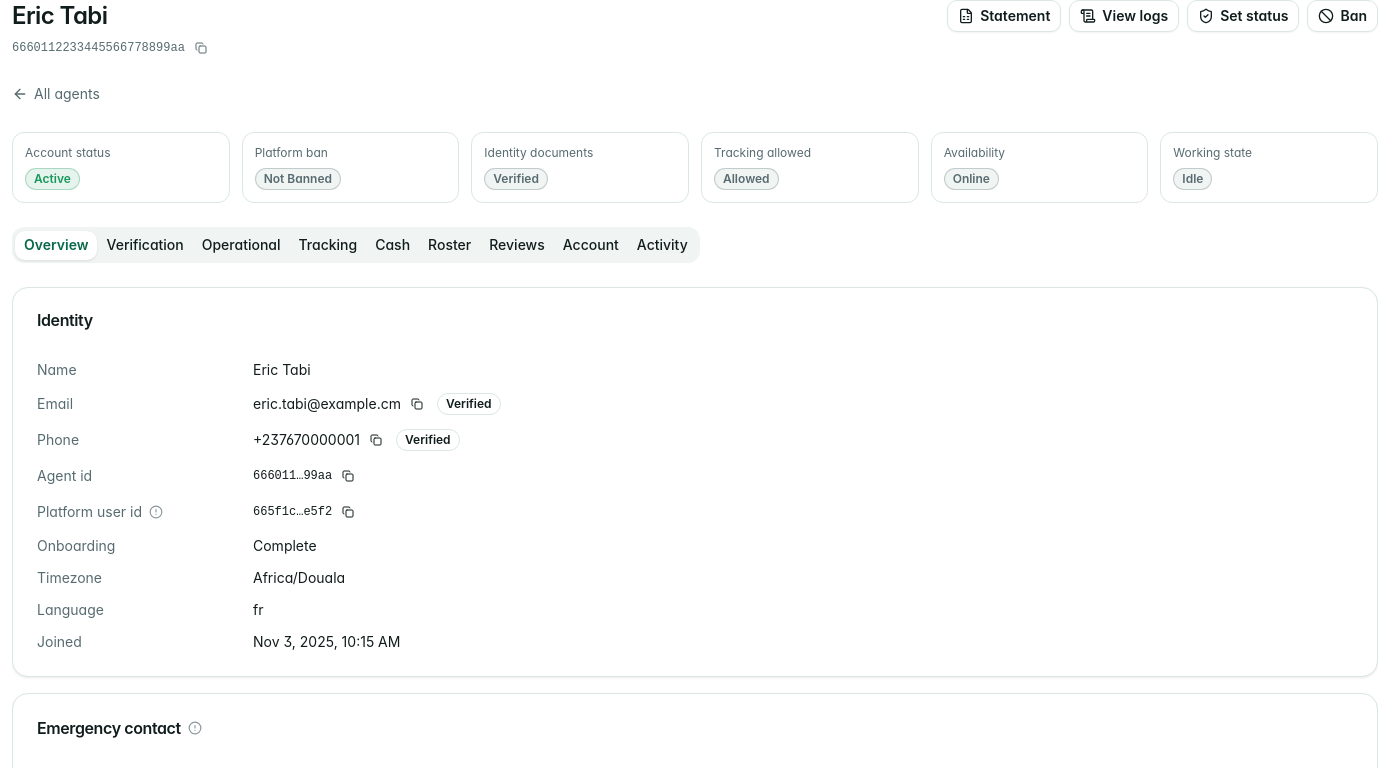
the last known position › announces staleness above the coordinates, without revealing them
The width and height of the screenshot is (1390, 768).
Click the tab "Tracking".
click(328, 245)  # box [290, 230, 366, 260]
(page scrolled)
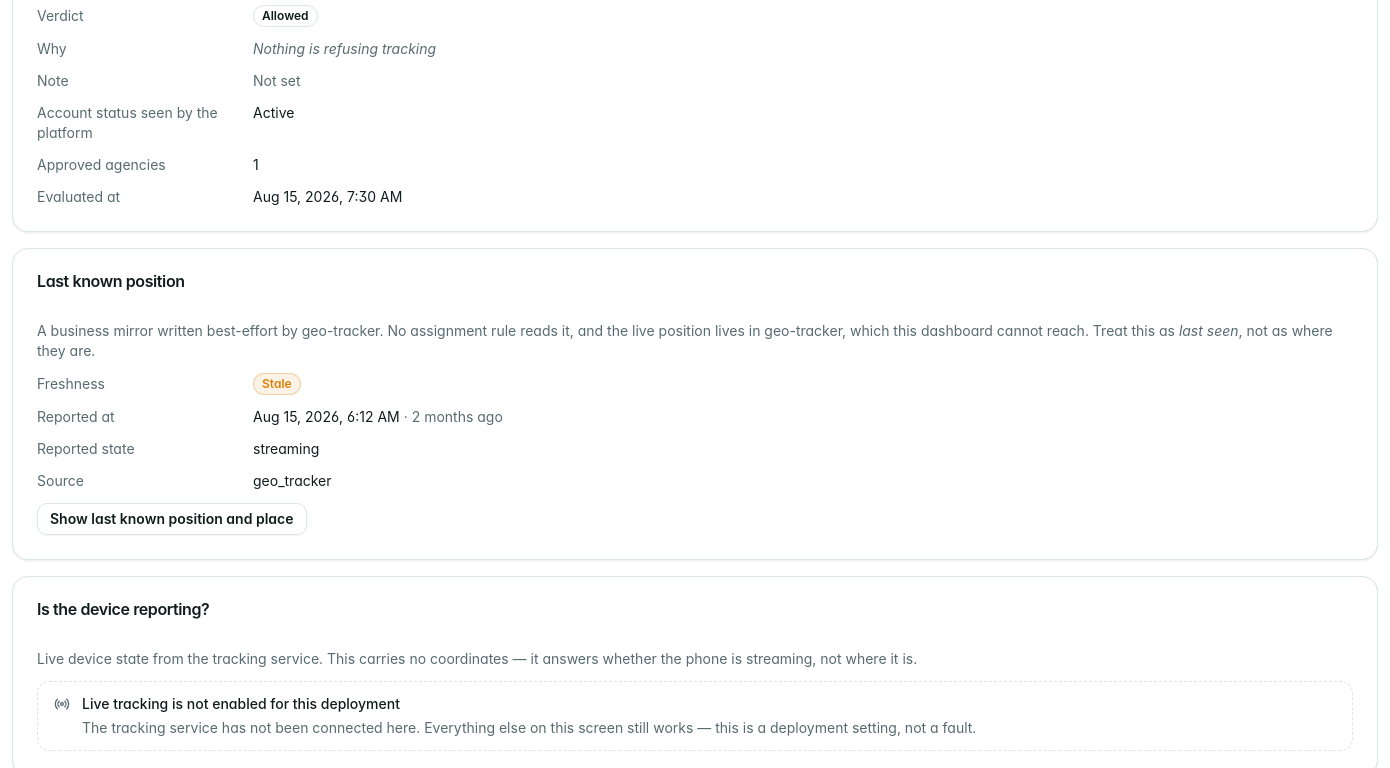
Expected: the text "Stale" is shown, [253, 373, 301, 395]
